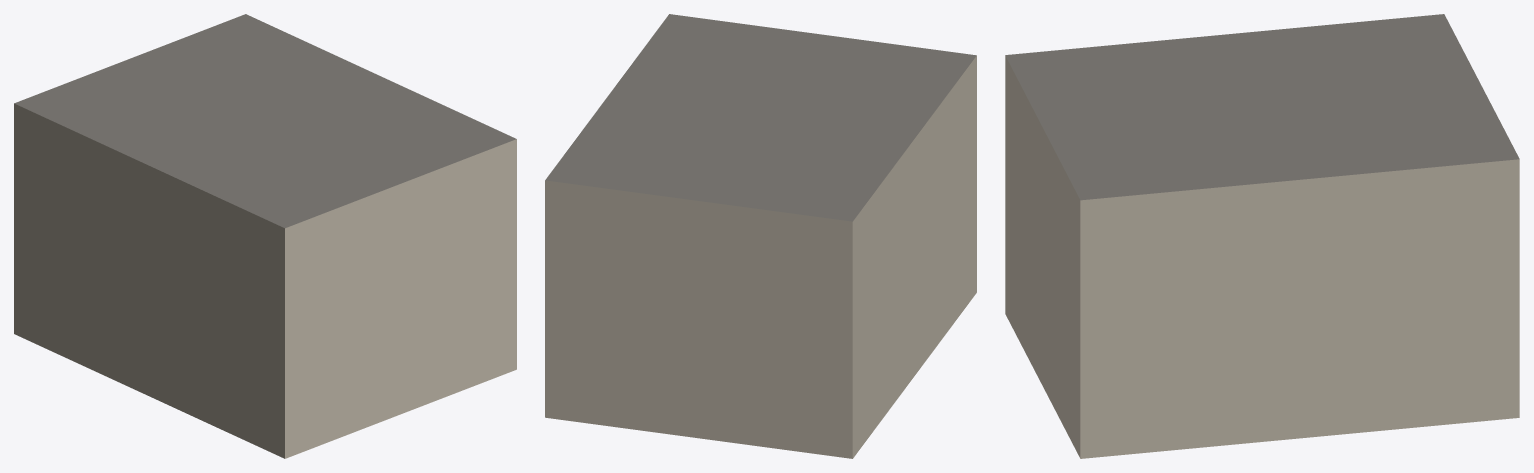
The picture shows the model from 3 angles, left to right: view 1: azimuth 30°, elevation 25°; view 2: azimuth 150°, elevation 25°; view 3: azimuth 270°, elevation 25°; orthographic projection. The views are drawn at different scales.
Visible parts, largest first — view 1: HP-w378107122; view 2: HP-w378107122; view 3: HP-w378107122.
Boxes of the visible parts, x1=… form: HP-w378107122: x1=14, y1=14, x2=516, y2=458; HP-w378107122: x1=545, y1=14, x2=976, y2=458; HP-w378107122: x1=1005, y1=14, x2=1519, y2=458.
Bounding box in the file's own units: 23.18 × 15 × 27.05.
